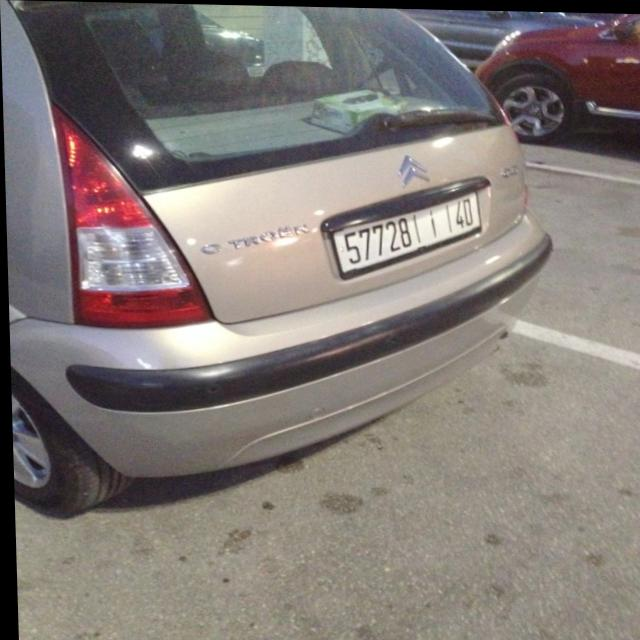License-Plate: (330, 191, 478, 275)
